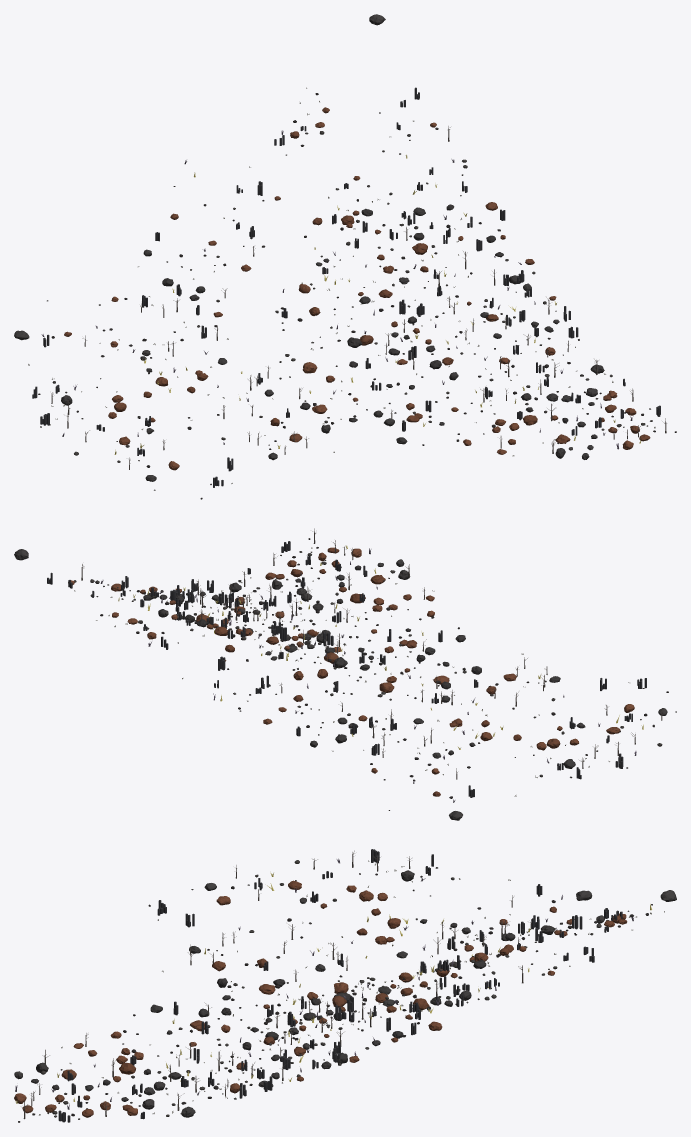
File: ash_land_scatter_c20_29.glb
3 views of the same model, one above another, from view 1: azimuth 30°, elevation 25°; view 2: azimuth 150°, elevation 25°; view 3: azimuth 270°, elevation 25° (orthographic). The views are drawn at different scales.
Parts seen in each view (by area): view 1: ash_land_scatter_c20_29; view 2: ash_land_scatter_c20_29; view 3: ash_land_scatter_c20_29.
Part boxes in pixels (x1,y1,x2,y2): ash_land_scatter_c20_29: (14, 14, 676, 499); ash_land_scatter_c20_29: (14, 528, 676, 820); ash_land_scatter_c20_29: (14, 849, 676, 1122).
Size of the model in its own units: 243 by 102 by 258.
